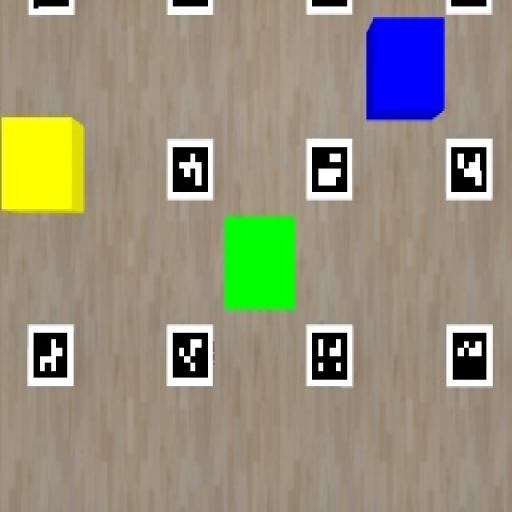car: (367, 18, 444, 121), (224, 216, 295, 311)
fire: (2, 118, 84, 213)
